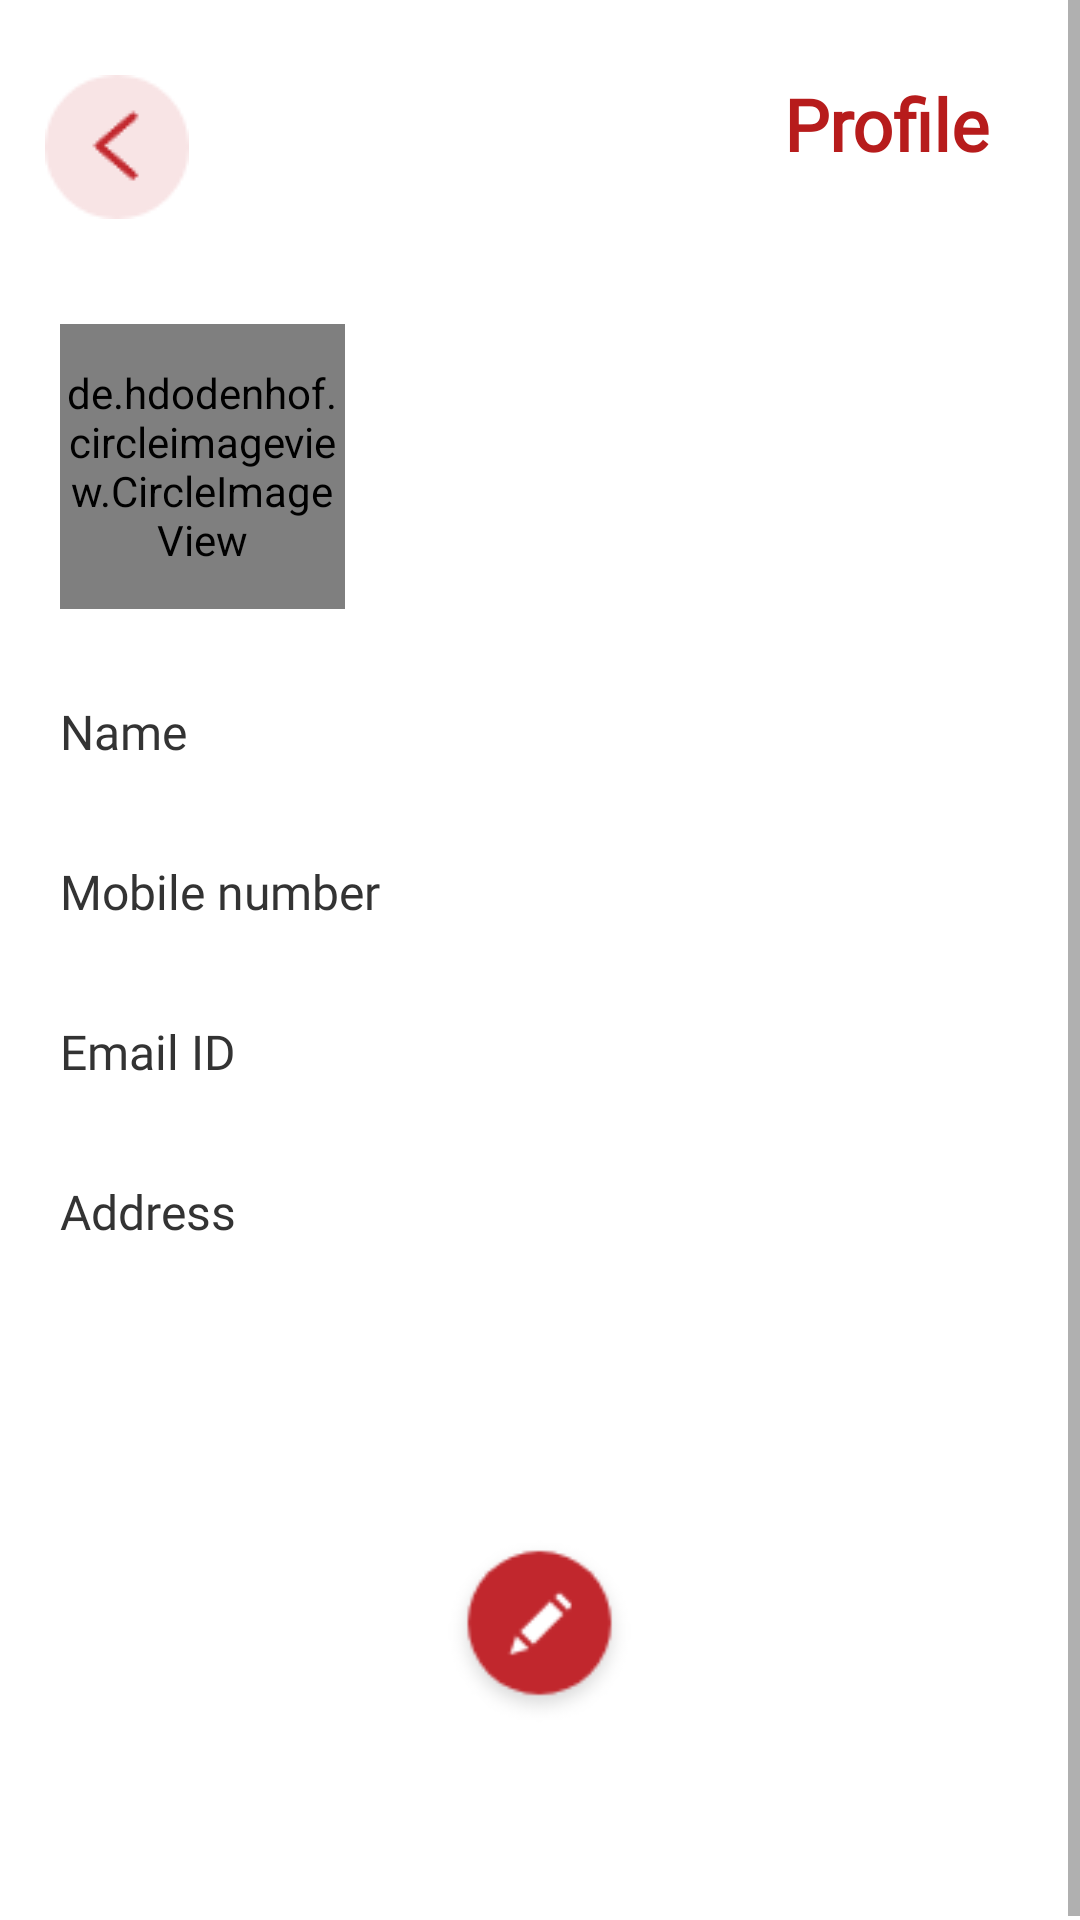

Icon bounding boxes for this 1080*1920 phone screenshot, format bbox=[x1, y1, x2, y2]:
back: bbox=[45, 75, 189, 219]
